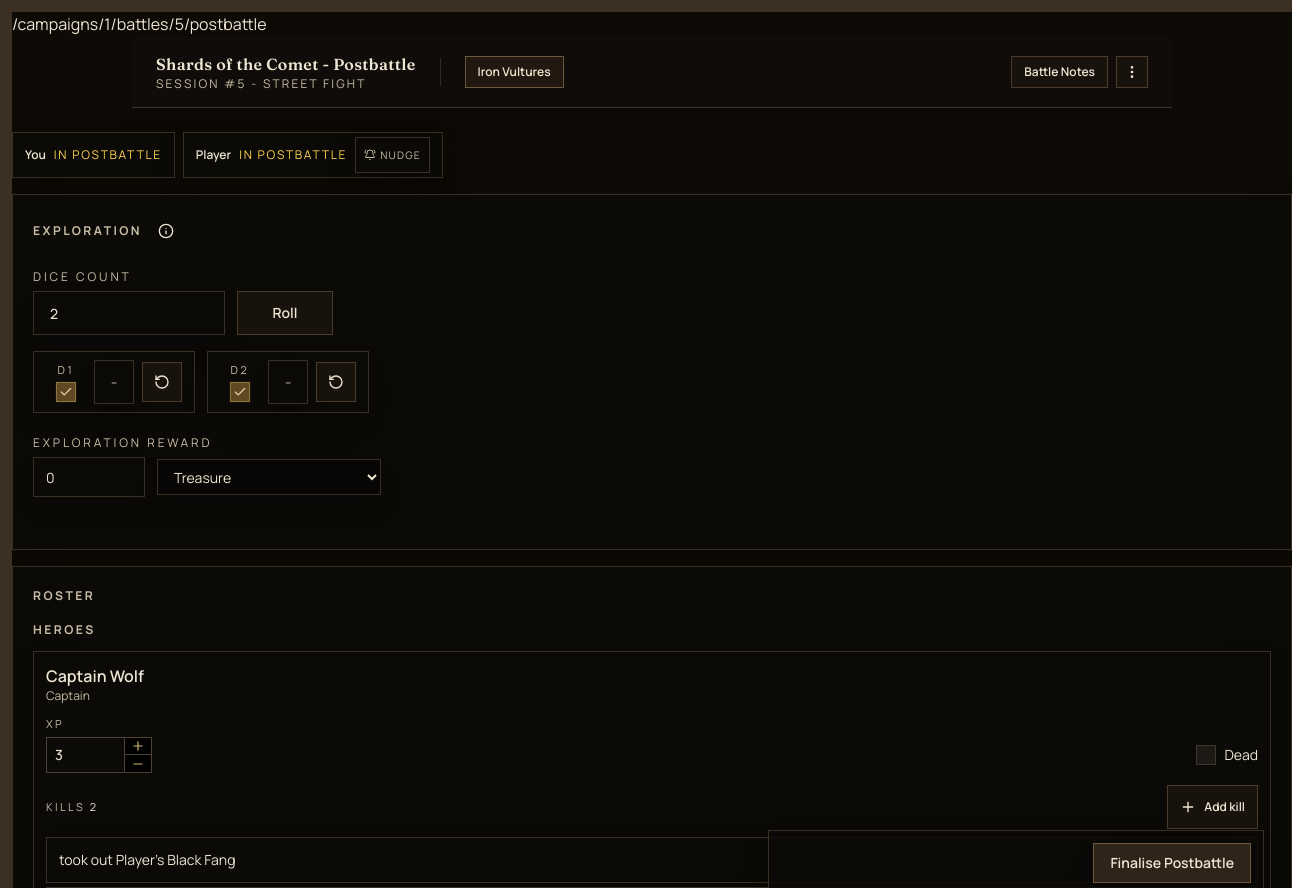
Test case: BattlePostbattle requests › nudges a player the battle waits for, then says when you can again (BATL-NEW-08)
Expected: the text "Captain Wolf" is shown, [46,664,144,688]
Click the button with aria-label "Nudge Player" at (393, 155), box [355,137,430,173]
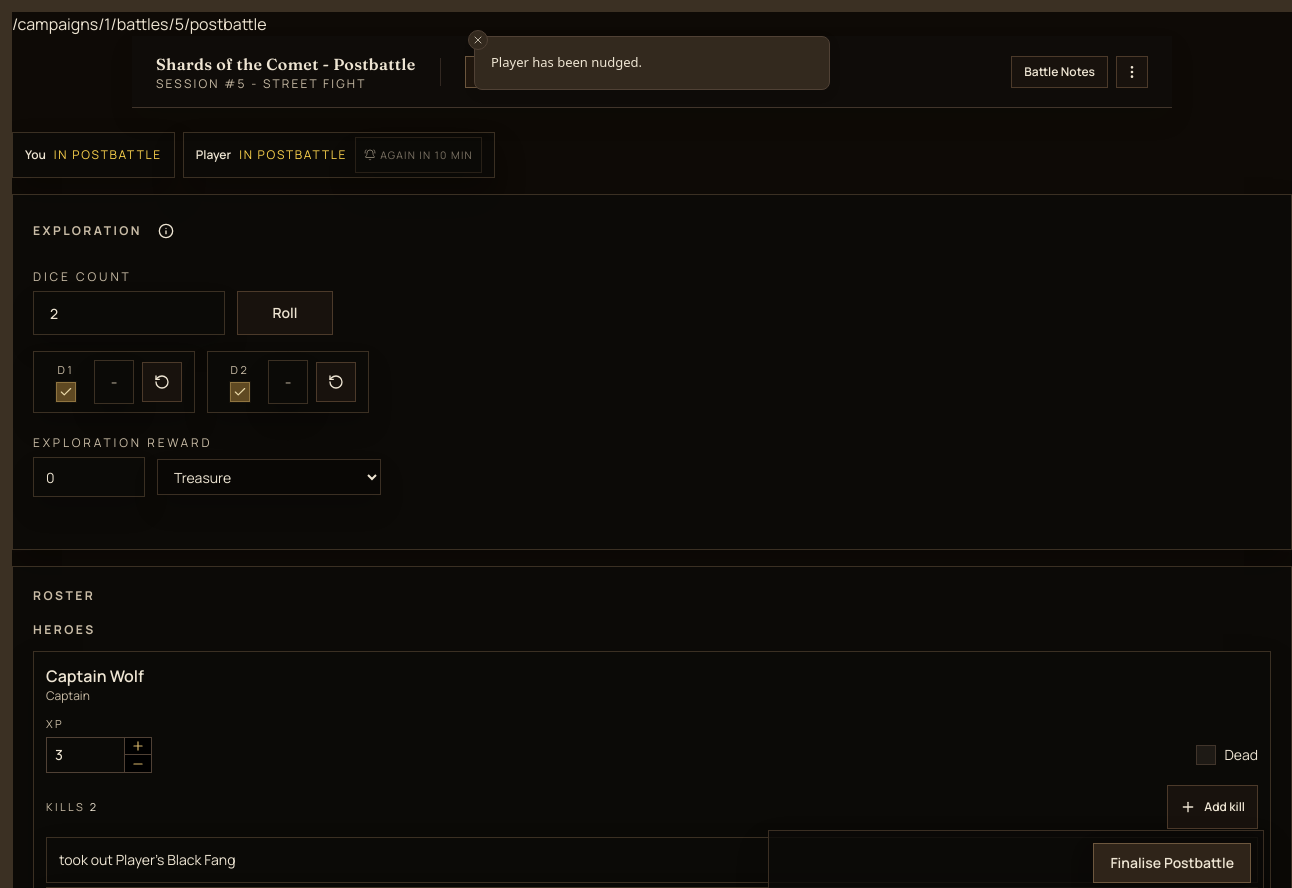
Expected: the button with aria-label "Player nudged; again in 10 min" is disabled, [355,137,482,173]
Expected: the button with aria-label "Player nudged; again in 10 min" reads "Again in 10 min", [355,137,482,173]
Expected: the text "Player has been nudged." is shown, [491,53,642,72]
